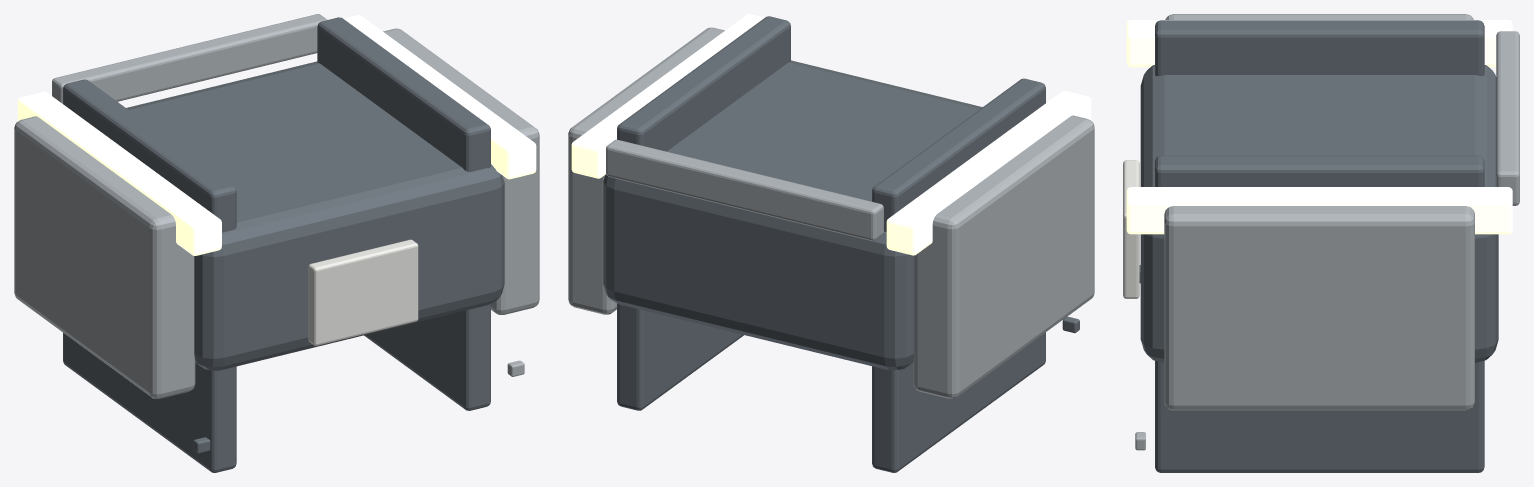
File: connector_aqualume-airlock-conduit-straight-standard-105.glb
The picture shows the model from 3 angles, left to right: view 1: azimuth 30°, elevation 25°; view 2: azimuth 150°, elevation 25°; view 3: azimuth 270°, elevation 25°; orthographic projection. The views are drawn at different scales.
Visible parts, largest first — view 1: component__primary_structural_span__primary_span, component__start_connection_socket__start_socket, component__load_bearing_frame__frame_post, component__load_bearing_frame__frame_post.001, component__service_access__service_access, component__lod_preserved_silhouette__lod_silhouette, component__end_connection_socket__end_socket, component__seal_or_transition_trim__transition_trim.001, component__seal_or_transition_trim__transition_trim; view 2: component__primary_structural_span__primary_span, component__start_connection_socket__start_socket, component__load_bearing_frame__frame_post, component__load_bearing_frame__frame_post.001, component__lod_preserved_silhouette__lod_silhouette, component__end_connection_socket__end_socket, component__seal_or_transition_trim__transition_trim.001, component__seal_or_transition_trim__transition_trim; view 3: component__end_connection_socket__end_socket, component__primary_structural_span__primary_span, component__load_bearing_frame__frame_post, component__load_bearing_frame__frame_post.001, component__seal_or_transition_trim__transition_trim, component__lod_preserved_silhouette__lod_silhouette, component__seal_or_transition_trim__transition_trim.001, component__start_connection_socket__start_socket, component__service_access__service_access.
Part boxes in pixels (bbox=[...]): component__primary_structural_span__primary_span: bbox=[126, 61, 504, 370]; component__start_connection_socket__start_socket: bbox=[14, 116, 195, 398]; component__load_bearing_frame__frame_post: bbox=[317, 17, 490, 410]; component__load_bearing_frame__frame_post.001: bbox=[63, 79, 236, 472]; component__service_access__service_access: bbox=[308, 239, 418, 345]; component__lod_preserved_silhouette__lod_silhouette: bbox=[52, 14, 327, 103]; component__end_connection_socket__end_socket: bbox=[383, 28, 539, 314]; component__seal_or_transition_trim__transition_trim.001: bbox=[17, 91, 221, 255]; component__seal_or_transition_trim__transition_trim: bbox=[343, 15, 536, 179]; component__primary_structural_span__primary_span: bbox=[603, 60, 982, 370]; component__start_connection_socket__start_socket: bbox=[913, 115, 1094, 398]; component__load_bearing_frame__frame_post: bbox=[617, 16, 790, 410]; component__load_bearing_frame__frame_post.001: bbox=[872, 78, 1045, 472]; component__lod_preserved_silhouette__lod_silhouette: bbox=[606, 139, 883, 240]; component__end_connection_socket__end_socket: bbox=[568, 27, 724, 314]; component__seal_or_transition_trim__transition_trim.001: bbox=[886, 91, 1091, 255]; component__seal_or_transition_trim__transition_trim: bbox=[571, 14, 764, 178]; component__end_connection_socket__end_socket: bbox=[1164, 206, 1474, 410]; component__primary_structural_span__primary_span: bbox=[1140, 65, 1498, 362]; component__load_bearing_frame__frame_post: bbox=[1155, 155, 1484, 472]; component__load_bearing_frame__frame_post.001: bbox=[1155, 20, 1484, 76]; component__seal_or_transition_trim__transition_trim: bbox=[1126, 187, 1512, 234]; component__lod_preserved_silhouette__lod_silhouette: bbox=[1496, 31, 1519, 205]; component__seal_or_transition_trim__transition_trim.001: bbox=[1126, 20, 1512, 67]; component__start_connection_socket__start_socket: bbox=[1165, 14, 1473, 19]; component__service_access__service_access: bbox=[1123, 160, 1139, 298].
Size of what is drawn, in the model's own units: 2.08 by 1.44 by 1.69.
